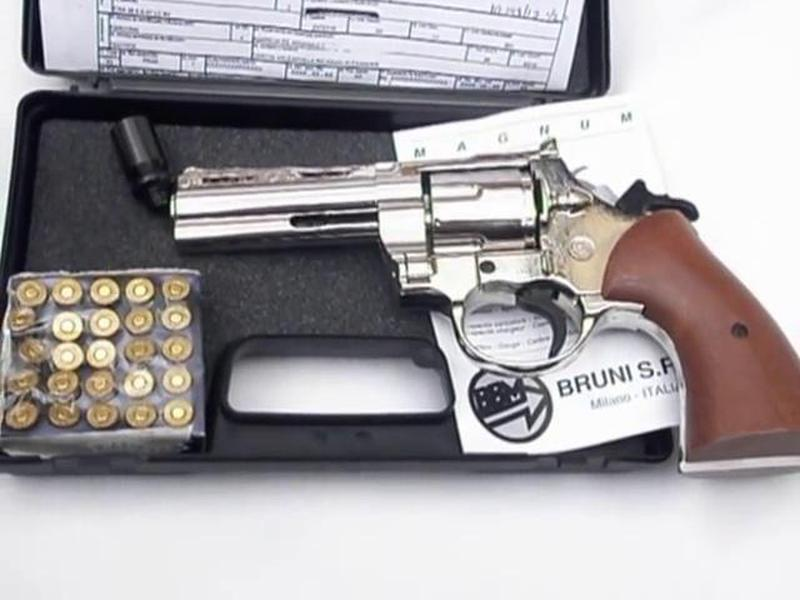Revolver: (185, 116, 720, 364)
